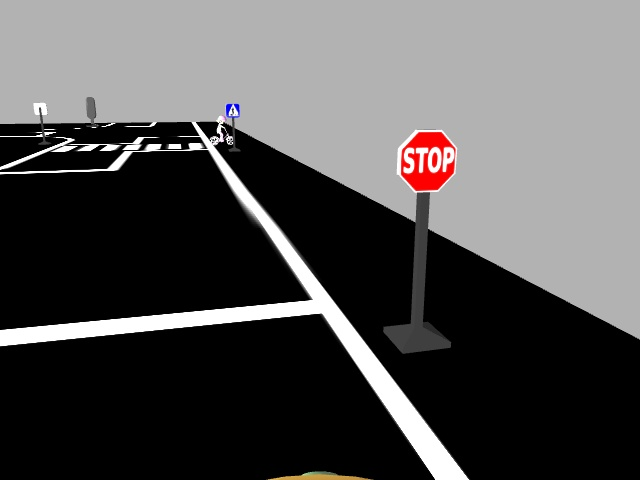Stop: (393, 128, 457, 195)
